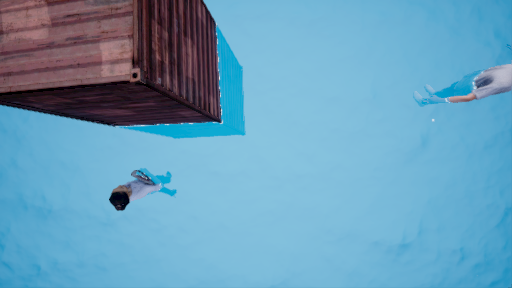person: (403, 58, 512, 109), (94, 166, 189, 212)
